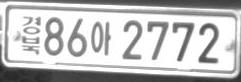2: (122, 19, 143, 60), (198, 22, 219, 63)
6: (66, 18, 87, 57)
7: (171, 22, 195, 62), (146, 20, 168, 60)
8: (43, 16, 64, 56)
경북_V: (21, 15, 41, 55)
아: (90, 21, 111, 56)
